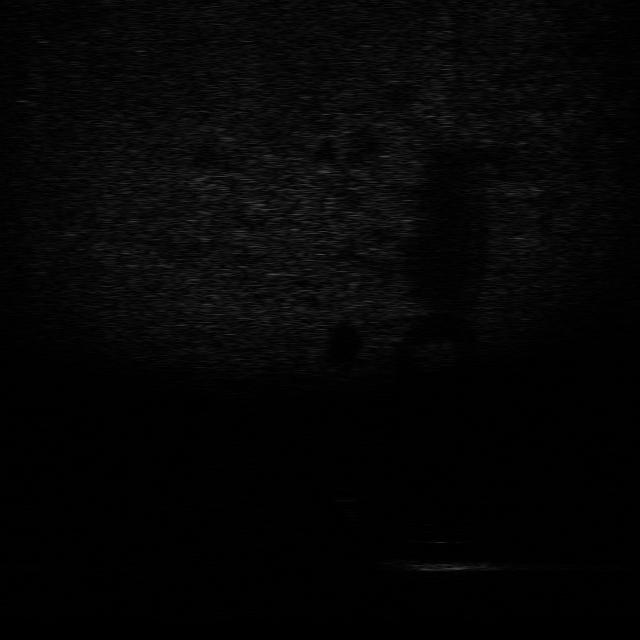ball: (323, 480, 362, 505)
metal bucket: (385, 552, 503, 576)
tyre: (402, 519, 472, 547)
